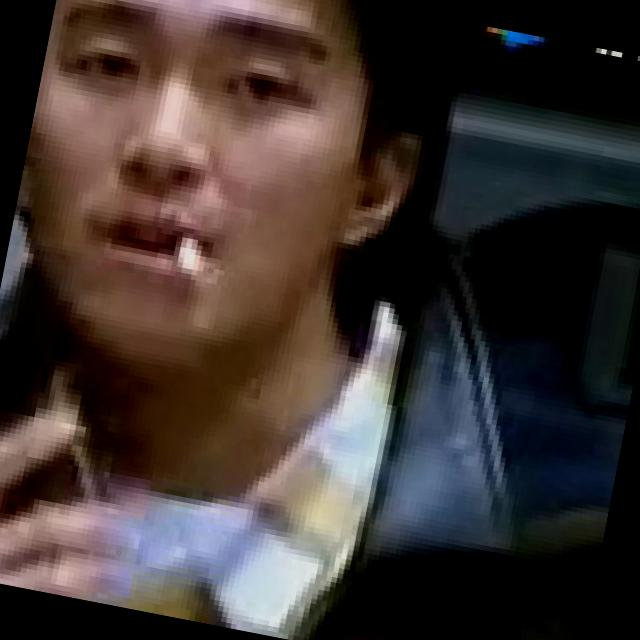cigarette: (141, 206, 224, 298)
